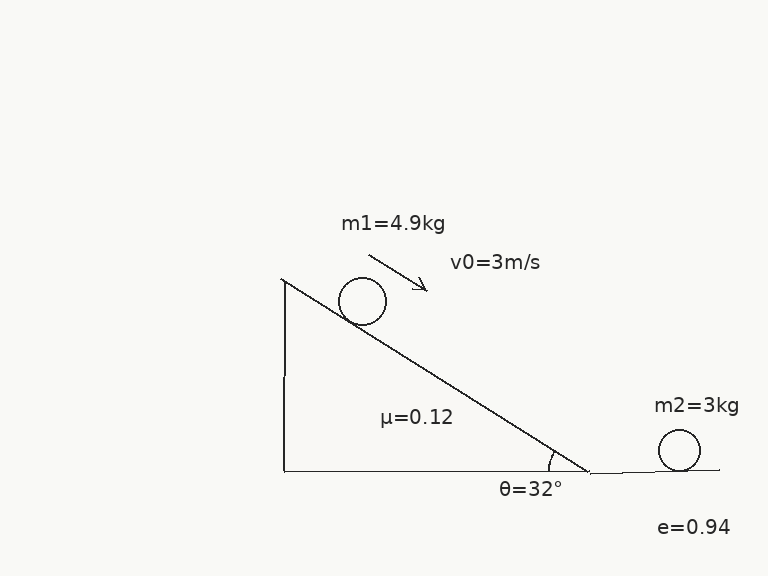ball: (336, 275, 388, 327), (656, 427, 702, 473)
ramp: (281, 278, 591, 473)
